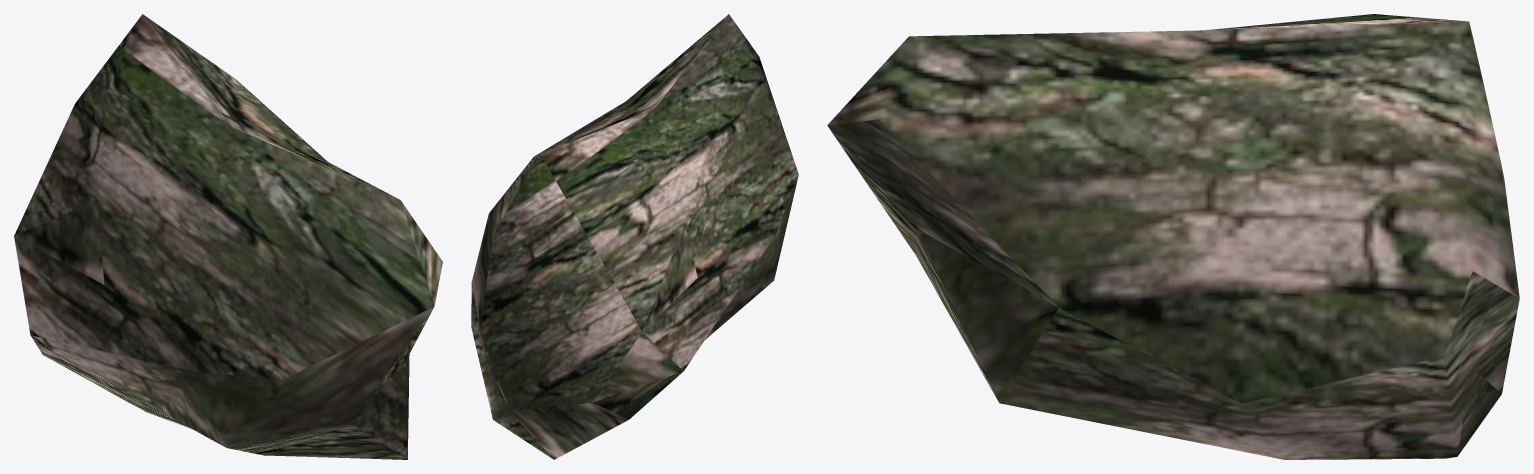
The picture shows the model from 3 angles, left to right: view 1: azimuth 30°, elevation 25°; view 2: azimuth 150°, elevation 25°; view 3: azimuth 270°, elevation 25°; orthographic projection. The views are drawn at different scales.
Visible parts, largest first — view 1: model_Object33; view 2: model_Object33; view 3: model_Object33.
Boxes of the visible parts, box(x1,y1,x2,y2) form: model_Object33: box(14, 14, 442, 459); model_Object33: box(471, 14, 798, 459); model_Object33: box(827, 14, 1519, 459).
Size of the model in its own units: 1.34 by 2.01 by 2.87.
Materials: 1 (1 with a texture image).
